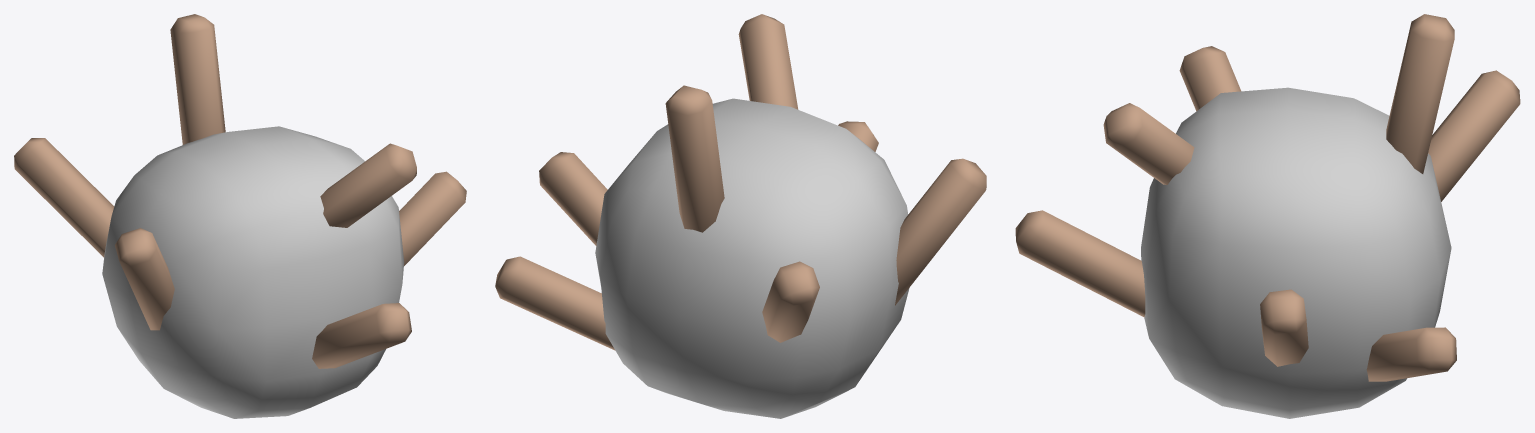
Rendered from GemRod02.fbx.
3 views of the same model, side by side, from view 1: azimuth 30°, elevation 25°; view 2: azimuth 150°, elevation 25°; view 3: azimuth 270°, elevation 25° (orthographic). The views are drawn at different scales.
Visible parts, largest first — view 1: GemRock_02, Rod1, Rod6, Rod3, Rod7, Rod2, Rod4; view 2: GemRock_02, Rod1, Rod2, Rod5, Rod3, Rod4, Rod6, Rod7; view 3: GemRock_02, Rod7, Rod1, Rod6, Rod3, Rod5, Rod4, Rod2.
Part boxes in pixels (bbox=[...]): GemRock_02: bbox=[102, 126, 404, 418]; Rod1: bbox=[170, 14, 225, 144]; Rod6: bbox=[14, 138, 114, 257]; Rod3: bbox=[320, 143, 416, 227]; Rod7: bbox=[312, 303, 411, 368]; Rod2: bbox=[115, 228, 174, 330]; Rod4: bbox=[399, 171, 466, 265]; GemRock_02: bbox=[595, 98, 909, 418]; Rod1: bbox=[665, 85, 724, 232]; Rod2: bbox=[895, 158, 986, 305]; Rod5: bbox=[495, 256, 615, 350]; Rod3: bbox=[738, 14, 798, 109]; Rod4: bbox=[539, 152, 607, 245]; Rod6: bbox=[762, 261, 819, 342]; Rod7: bbox=[838, 121, 878, 151]; GemRock_02: bbox=[1141, 87, 1451, 418]; Rod7: bbox=[1015, 210, 1145, 317]; Rod1: bbox=[1386, 14, 1454, 173]; Rod6: bbox=[1428, 70, 1520, 201]; Rod3: bbox=[1103, 103, 1194, 184]; Rod5: bbox=[1366, 327, 1456, 381]; Rod4: bbox=[1260, 289, 1308, 366]; Rod2: bbox=[1179, 46, 1240, 111].
Bounding box in the file's own units: 39.3 × 33.31 × 40.5.
